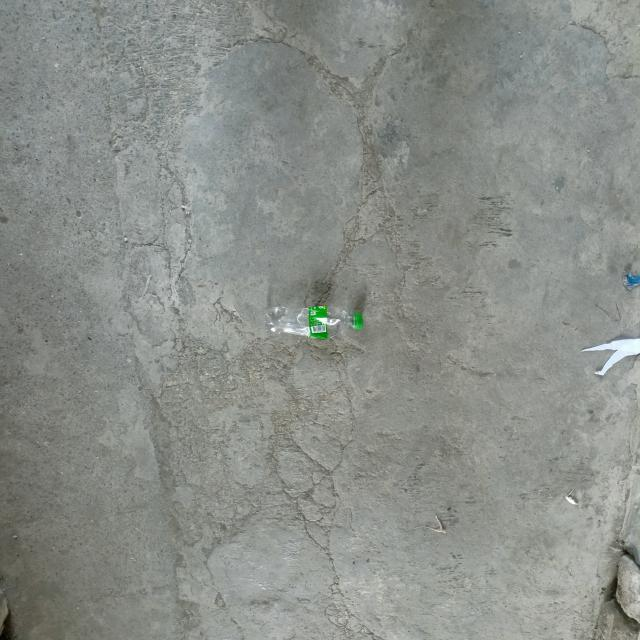Bottle: (266, 306, 363, 340)
